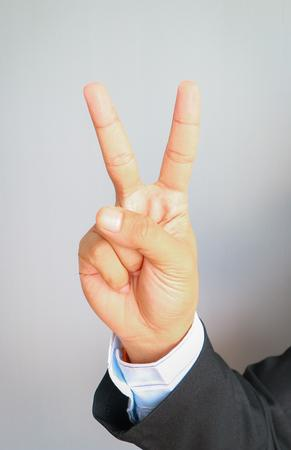peace_sign: (74, 71, 214, 350)
